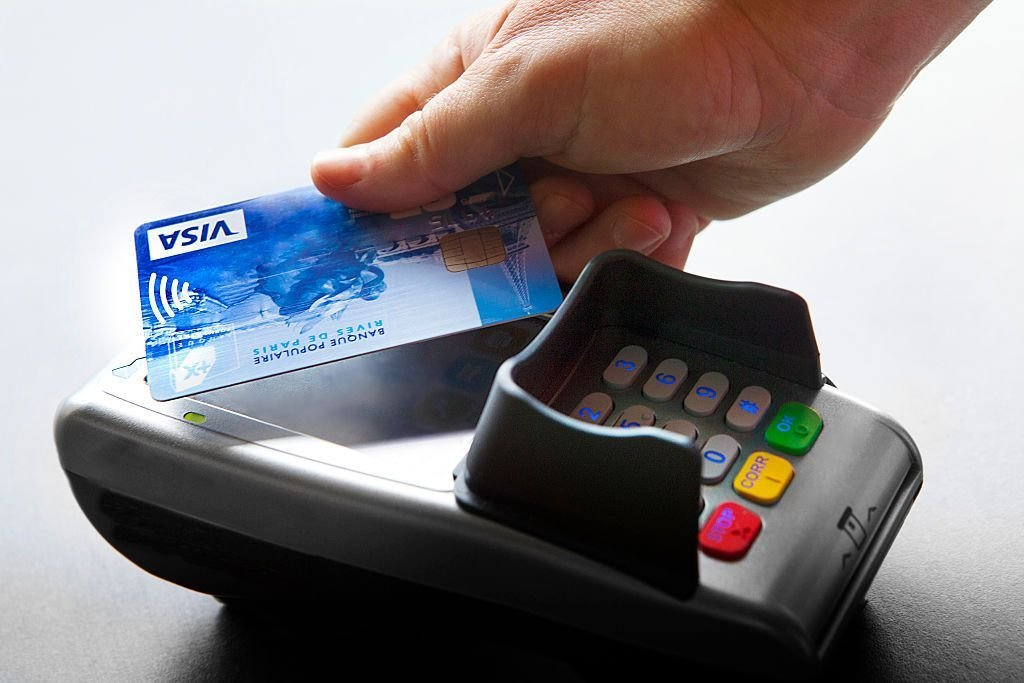card: (133, 160, 563, 403)
